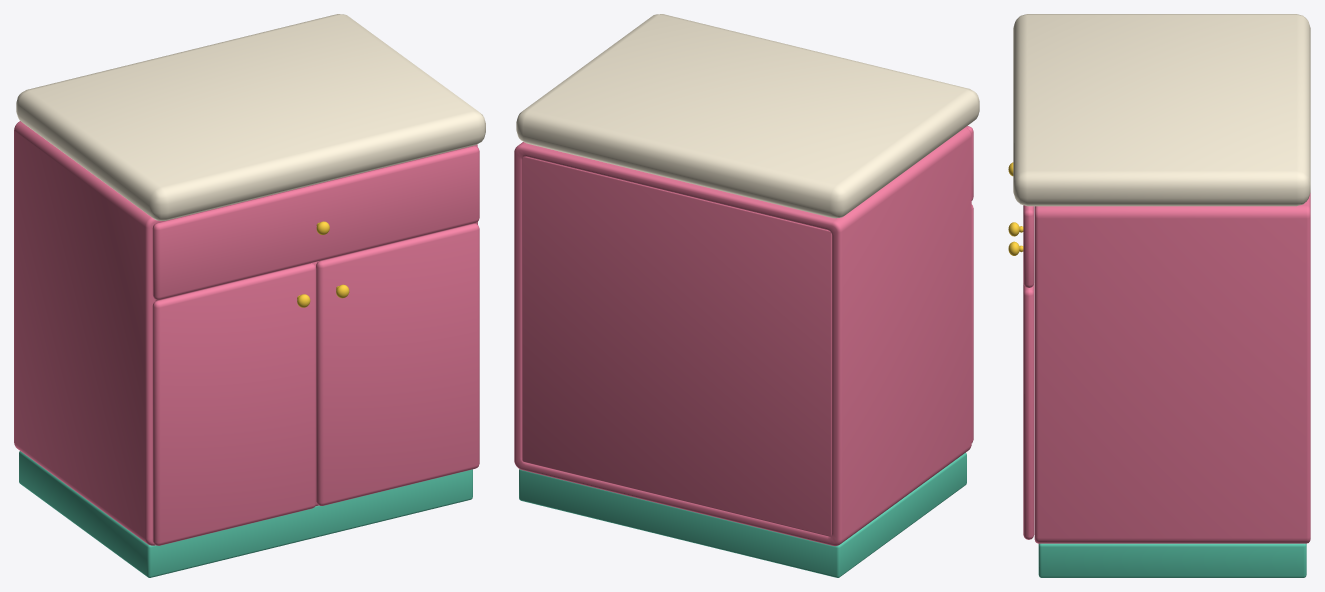
Rendered from armario_cozinha_base_2portas_verde_rosa.glb.
3 views of the same model, side by side, from view 1: azimuth 30°, elevation 25°; view 2: azimuth 150°, elevation 25°; view 3: azimuth 270°, elevation 25° (orthographic). The views are drawn at different scales.
Parts seen in each view (by area): view 1: armario_cozinha_base_2portas_verde_rosa, porta_1, porta_2, gaveta_1; view 2: armario_cozinha_base_2portas_verde_rosa, porta_1; view 3: armario_cozinha_base_2portas_verde_rosa, porta_2, gaveta_1.
Part boxes in pixels (x1,y1,x2,y2): armario_cozinha_base_2portas_verde_rosa: (14,14,485,577); porta_1: (152,263,316,545); porta_2: (316,223,479,505); gaveta_1: (152,146,479,299); armario_cozinha_base_2portas_verde_rosa: (514,14,979,577); porta_1: (971,204,973,442); armario_cozinha_base_2portas_verde_rosa: (1013,14,1310,577); porta_2: (1008,241,1034,539); gaveta_1: (1008,162,1034,287).
Bounding box in the file's own units: 0.798 × 0.9 × 0.609.
Materials: 1 (1 with a texture image).
